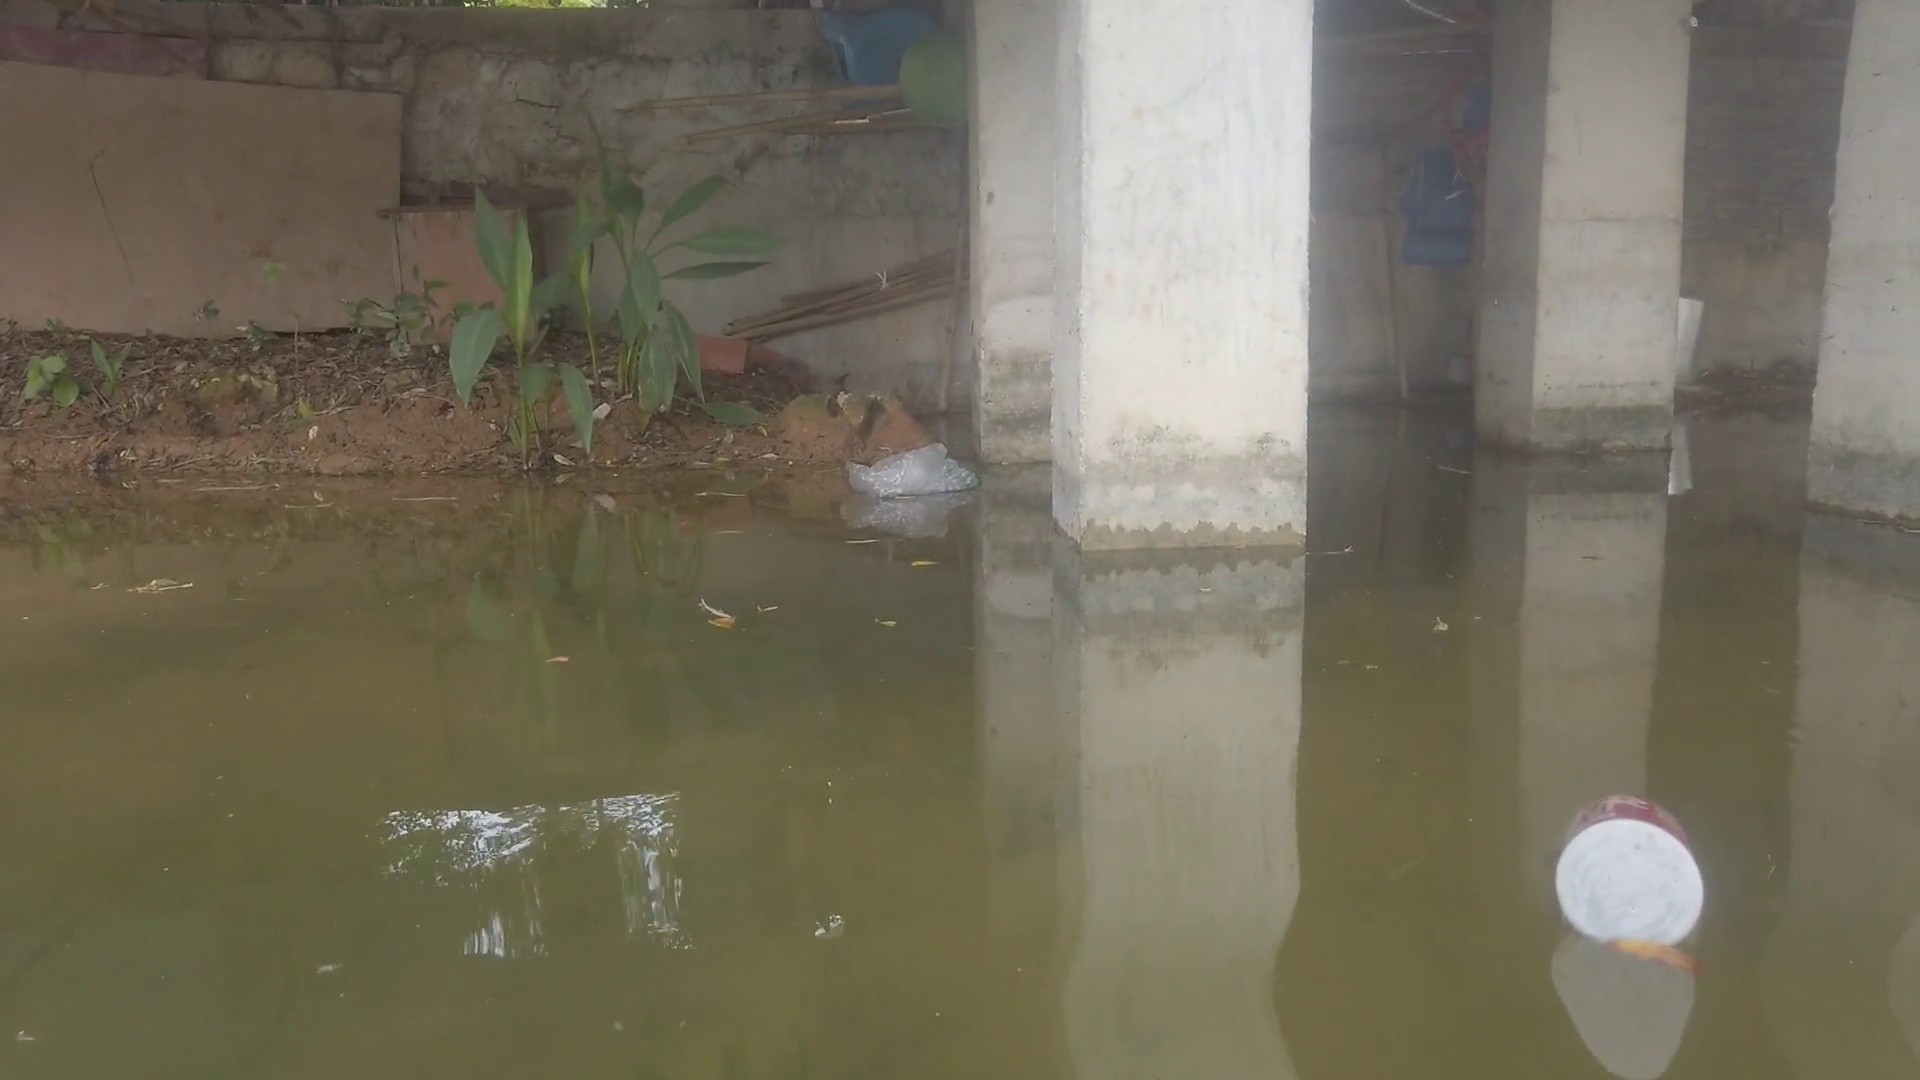bottle: (1549, 793, 1710, 947)
plastic: (847, 444, 992, 502)
